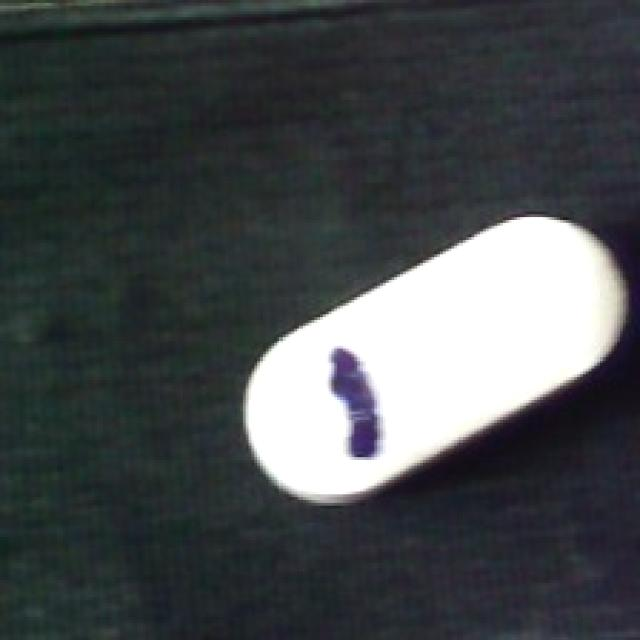defected: (240, 212, 640, 506)
